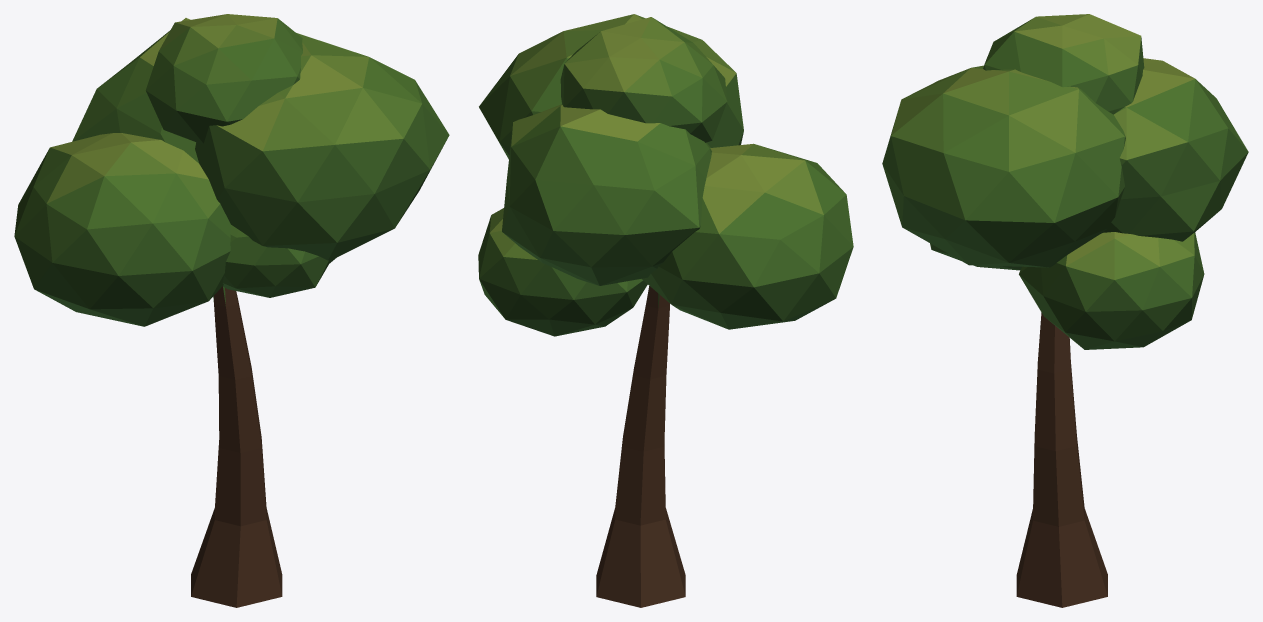
The model's file is tree_orchard_tall.glb.
3 renders of one model, left to right at view 1: azimuth 30°, elevation 25°; view 2: azimuth 150°, elevation 25°; view 3: azimuth 270°, elevation 25°, orthographic. The views are drawn at different scales.
Visible parts, largest first — view 1: tree_orchard_tall; view 2: tree_orchard_tall; view 3: tree_orchard_tall.
Part boxes in pixels (bbox=[...]): tree_orchard_tall: bbox=[14, 14, 449, 607]; tree_orchard_tall: bbox=[478, 14, 853, 607]; tree_orchard_tall: bbox=[882, 14, 1248, 607].
Size of the model in its own units: 6.11 by 8.81 by 5.22.
